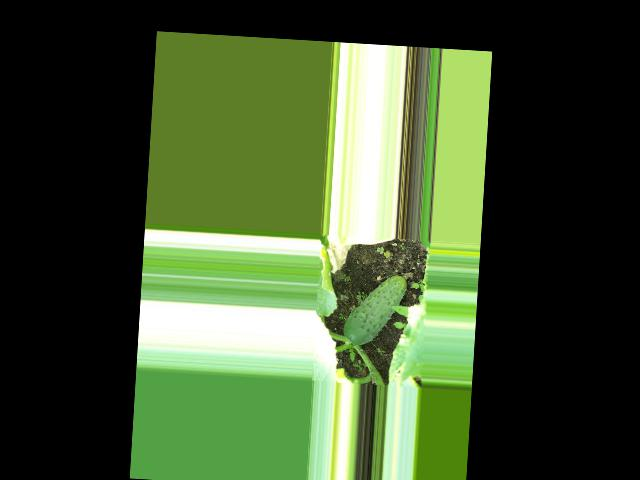cucumber: (342, 272, 407, 348)
